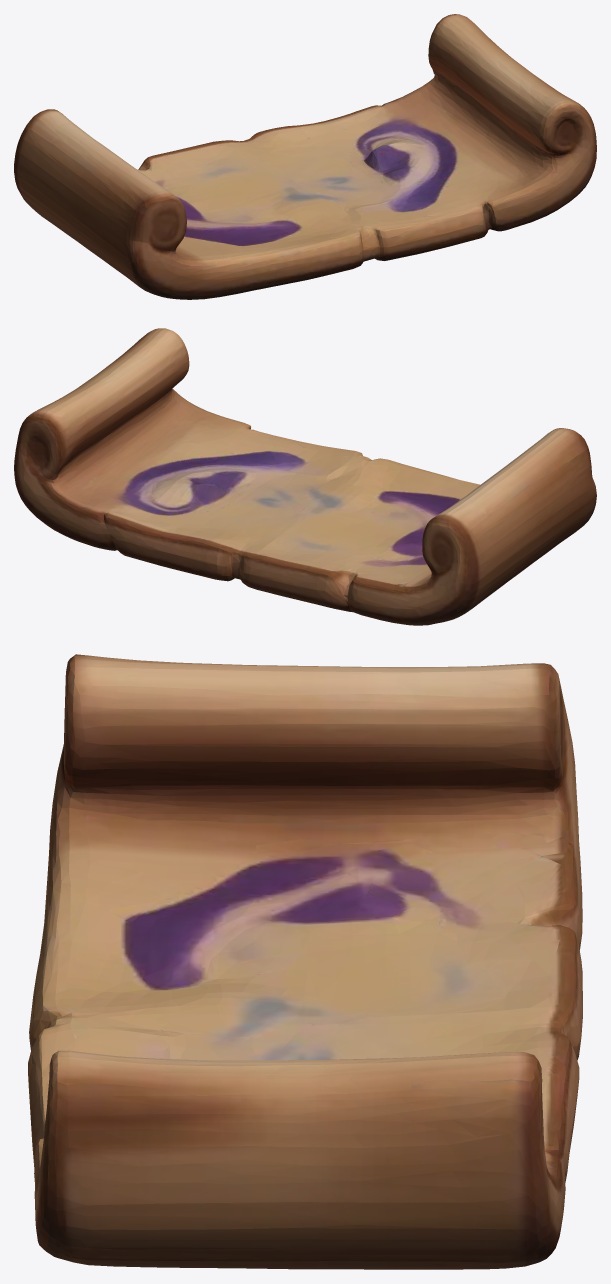
File: open_scroll.glb
The picture shows the model from 3 angles, top to bottom: view 1: azimuth 30°, elevation 25°; view 2: azimuth 150°, elevation 25°; view 3: azimuth 270°, elevation 25°; orthographic projection. The views are drawn at different scales.
Visible parts, largest first — view 1: world; view 2: world; view 3: world.
Boxes of the visible parts, left/top/right/bottom form: world: left=14, top=14, right=596, bottom=299; world: left=14, top=328, right=596, bottom=625; world: left=28, top=654, right=582, bottom=1269.
Bounding box in the file's own units: 0.999 × 0.2424 × 0.5213.
Materials: 1 (1 with a texture image).
